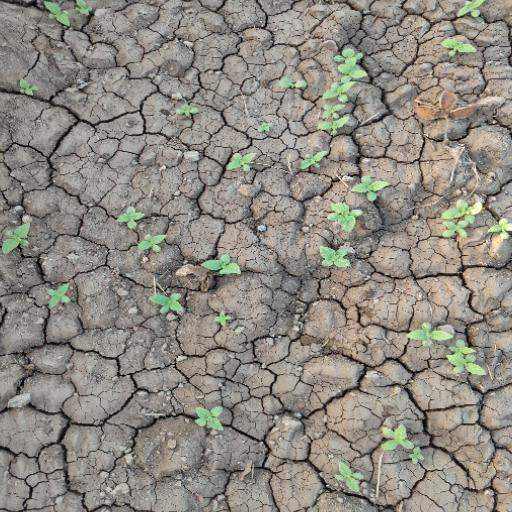crop: (404, 314, 488, 386), (316, 40, 365, 144), (439, 194, 512, 252), (111, 206, 169, 255), (145, 288, 186, 321), (197, 253, 242, 281), (325, 199, 362, 233), (352, 172, 391, 204), (317, 239, 356, 270), (44, 282, 75, 309)
